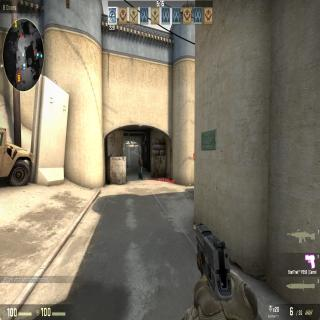T-Body: (138, 156, 144, 180)
T-Head: (138, 156, 142, 159)
